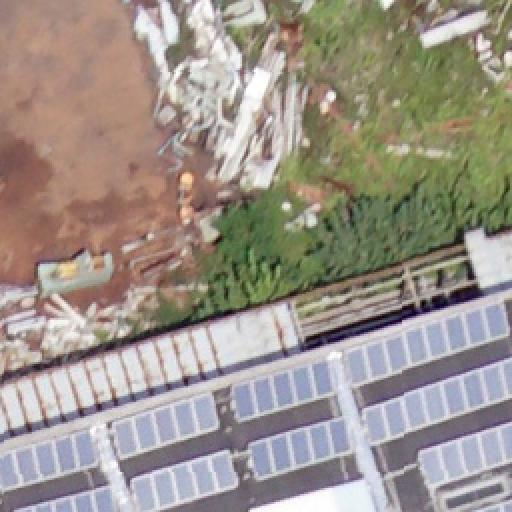solar-panel: (344, 300, 512, 384), (360, 358, 512, 442), (112, 390, 224, 458), (128, 448, 240, 512), (244, 417, 356, 479), (231, 356, 337, 420), (416, 419, 512, 485), (1, 429, 103, 491), (15, 484, 121, 512), (465, 496, 511, 512)
